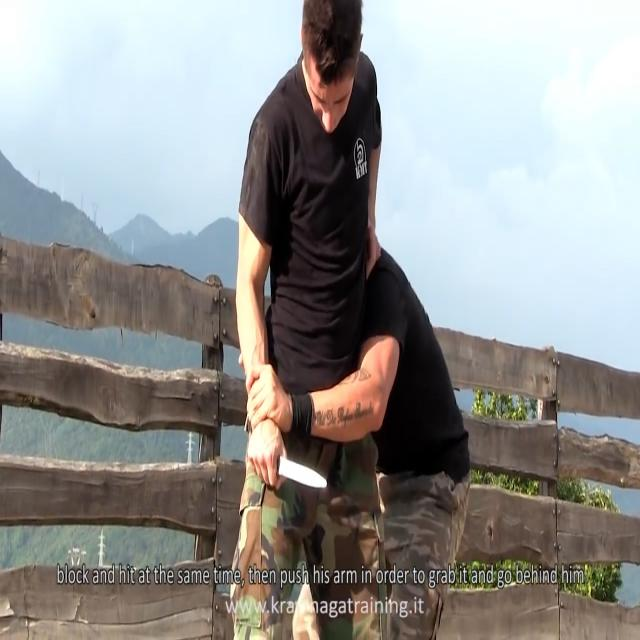knife: (275, 453, 333, 503)
